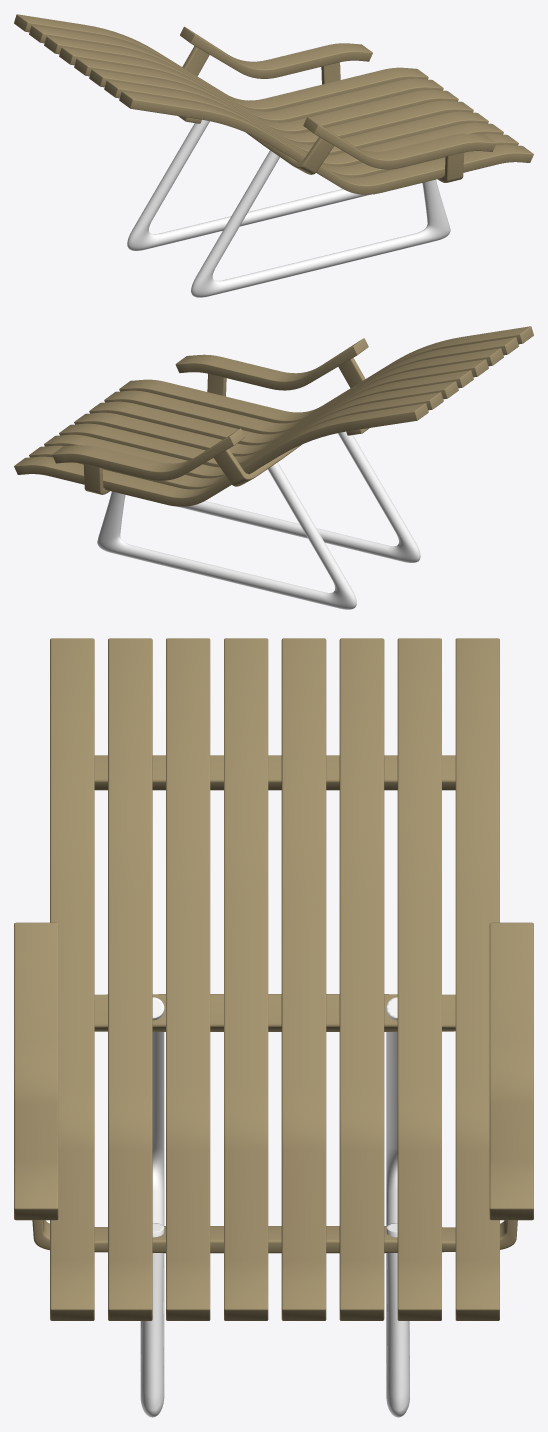
3 views of the same model, one above another, from view 1: azimuth 30°, elevation 25°; view 2: azimuth 150°, elevation 25°; view 3: azimuth 270°, elevation 25° (orthographic). The views are drawn at different scales.
Parts seen in each view (by area): view 1: Line001, ChamferBox002, Line002, ChamferBox009, ChamferBox008, ChamferBox007, ChamferBox006, ChamferBox005, ChamferBox014, ChamferBox015, ChamferBox004, ChamferBox003 (+2 smaller); view 2: Line002, ChamferBox009, Line001, ChamferBox002, ChamferBox003, ChamferBox004, ChamferBox005, ChamferBox006, ChamferBox014, ChamferBox015, ChamferBox007, ChamferBox008 (+2 smaller); view 3: ChamferBox007, ChamferBox006, ChamferBox008, ChamferBox005, ChamferBox004, ChamferBox003, ChamferBox002, ChamferBox009, ChamferBox015, ChamferBox014, Line001, Line002 (+3 smaller).
Boxes of the visible parts, x1,y1,x2,y2 form: Line001: (191, 150, 450, 297); ChamferBox002: (119, 91, 533, 194); Line002: (127, 119, 369, 250); ChamferBox009: (14, 14, 428, 111); ChamferBox008: (29, 25, 443, 122); ChamferBox007: (44, 36, 458, 133); ChamferBox006: (59, 47, 473, 144); ChamferBox005: (74, 58, 488, 155); ChamferBox014: (303, 117, 496, 169); ChamferBox015: (180, 26, 372, 78); ChamferBox004: (89, 69, 503, 166); ChamferBox003: (104, 80, 518, 177); Line002: (97, 462, 356, 609); ChamferBox009: (14, 403, 428, 506); Line001: (178, 431, 420, 562); ChamferBox002: (119, 326, 533, 423); ChamferBox003: (104, 337, 518, 434); ChamferBox004: (89, 348, 503, 445); ChamferBox005: (74, 359, 488, 456); ChamferBox006: (59, 370, 473, 467); ChamferBox014: (175, 338, 368, 390); ChamferBox015: (52, 428, 244, 480); ChamferBox007: (44, 381, 458, 478); ChamferBox008: (29, 392, 443, 489); ChamferBox007: (339, 638, 384, 1320); ChamferBox006: (281, 638, 326, 1320); ChamferBox008: (397, 638, 441, 1320); ChamferBox005: (224, 638, 268, 1320); ChamferBox004: (166, 638, 210, 1320); ChamferBox003: (108, 638, 152, 1320); ChamferBox002: (50, 638, 94, 1320); ChamferBox009: (455, 638, 499, 1320); ChamferBox015: (489, 922, 533, 1220); ChamferBox014: (14, 922, 58, 1220); Line001: (140, 997, 164, 1417); Line002: (386, 997, 409, 1417).
Size of the model in its own units: 25.66 by 14.6 by 14.85.
